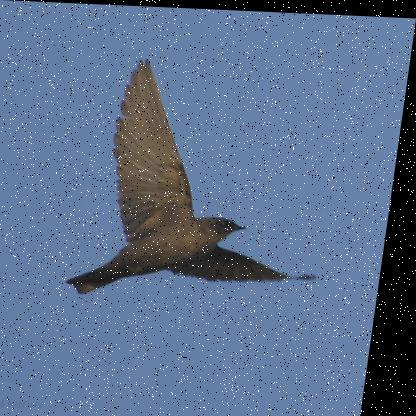Burung: (73, 56, 347, 300)
